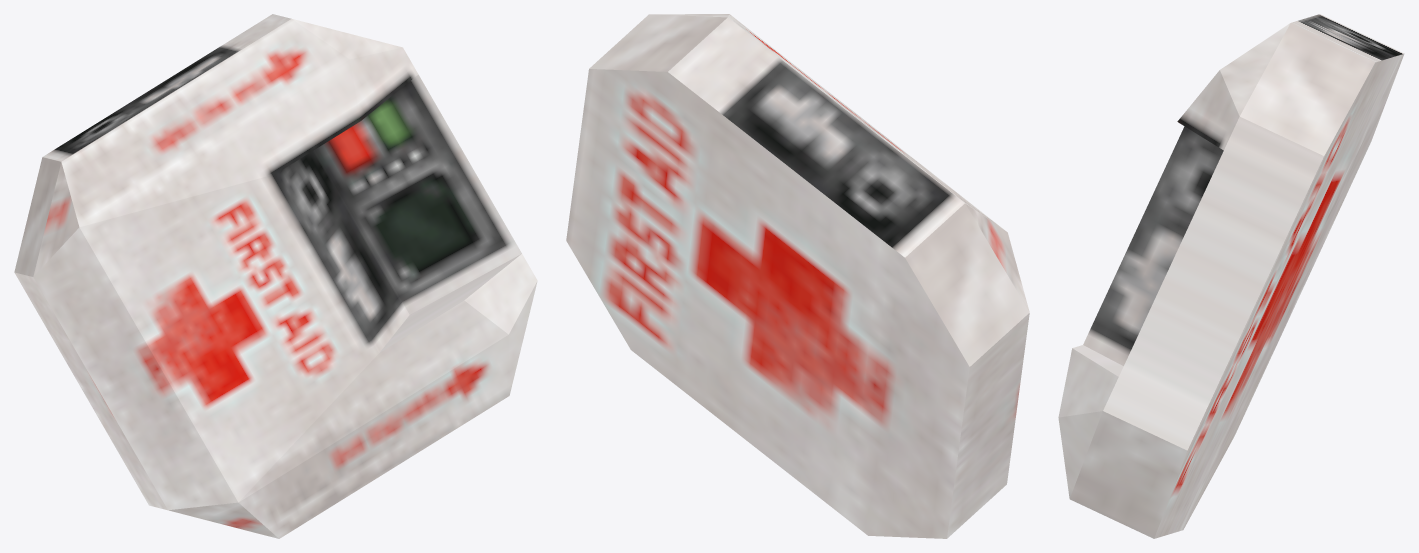
File: p_medkit.glb
3 renders of one model, left to right at view 1: azimuth 30°, elevation 25°; view 2: azimuth 150°, elevation 25°; view 3: azimuth 270°, elevation 25°, orthographic. The views are drawn at different scales.
Visible parts, largest first — view 1: p_medkit; view 2: p_medkit; view 3: p_medkit.
Boxes of the visible parts, x1,y1,x2,y2 form: p_medkit: (14, 14, 537, 538); p_medkit: (566, 14, 1029, 538); p_medkit: (1058, 14, 1404, 538).
Bounding box in the file's own units: 13.28 × 13.27 × 7.54.
1 material, 1 textured.
